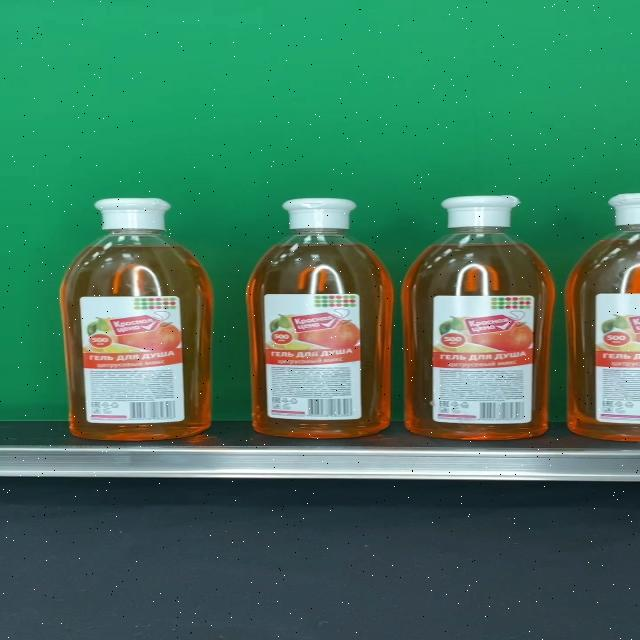Bottle: (401, 195, 556, 440), (59, 198, 213, 441), (245, 196, 394, 438)
Cap: (439, 196, 521, 230), (92, 198, 172, 231), (281, 197, 358, 230)
